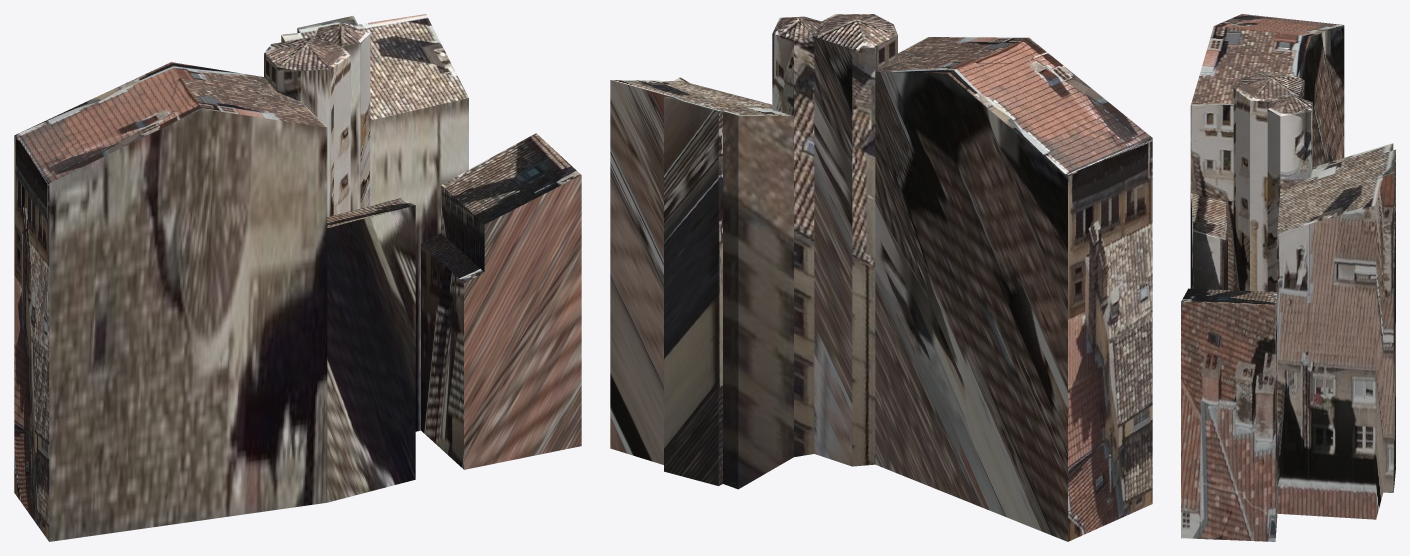
The picture shows the model from 3 angles, left to right: view 1: azimuth 30°, elevation 25°; view 2: azimuth 150°, elevation 25°; view 3: azimuth 270°, elevation 25°; orthographic projection. The views are drawn at different scales.
Parts seen in each view (by area): view 1: Z_UP; view 2: Z_UP; view 3: Z_UP.
Boxes of the visible parts, x1,y1,x2,y2 form: Z_UP: (14,14,581,541); Z_UP: (610,14,1152,541); Z_UP: (1181,14,1395,541).
Size of the model in its own units: 30.8 by 24.38 by 12.98.
Materials: 2 (1 with a texture image).
